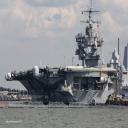Portanaves: (6, 2, 121, 102)
